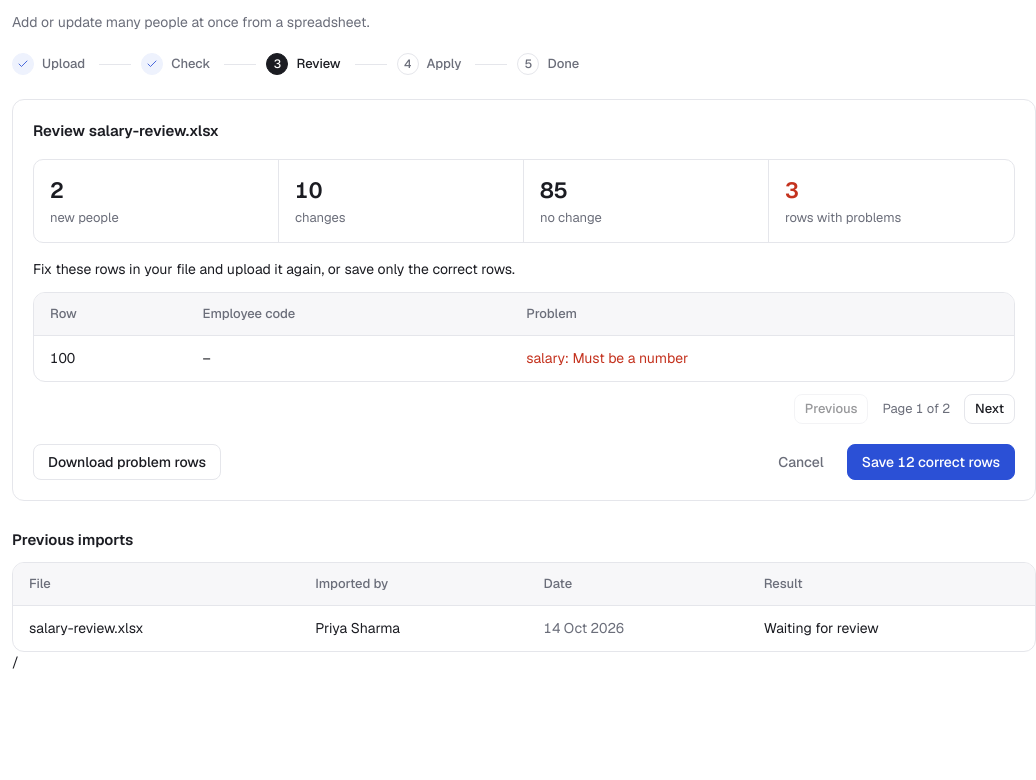
An open import › pages through the problem rows
Check: the text "Page 1 of 2" is shown, box [882,400,950,417]
Check: the text "–" is shown, box [186,336,510,381]
Step 1. Click the button "Next" → (990, 409), box [964,394,1015,424]
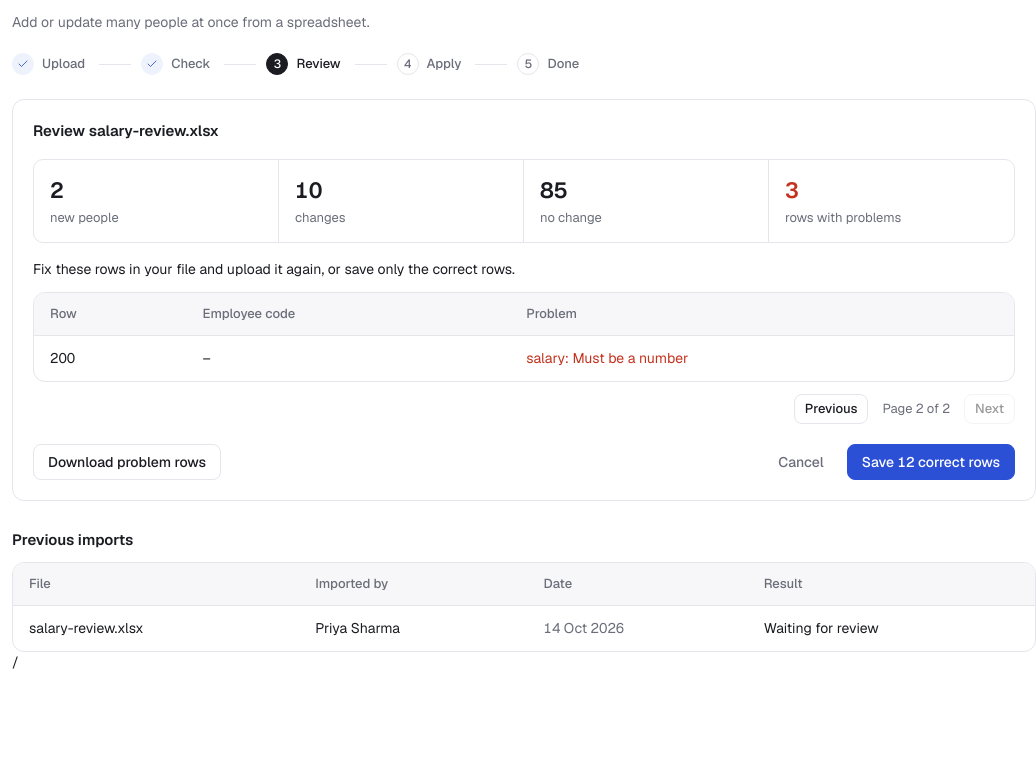
Check: the text "200" is shown, box [34,336,186,381]
